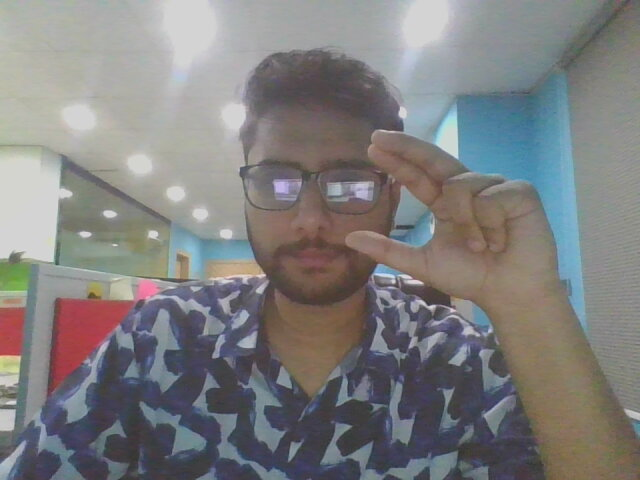no: (341, 115, 582, 332)
